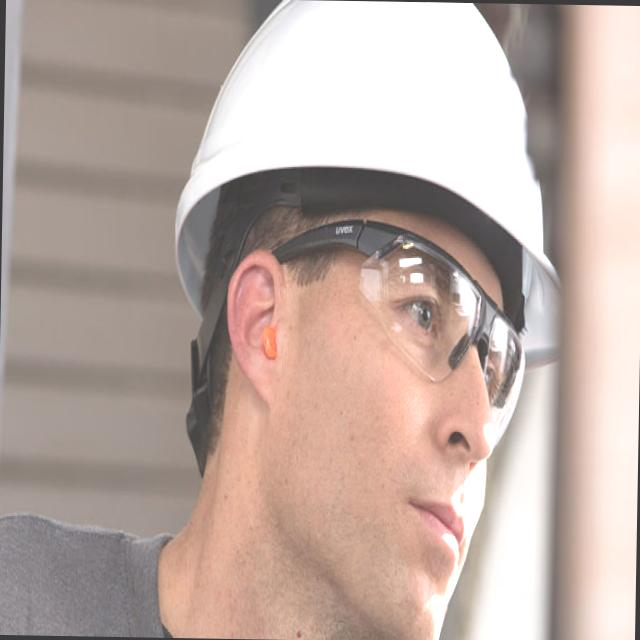goggles: (269, 220, 533, 446)
helmet: (163, 0, 564, 305)
no-vest: (0, 453, 249, 638)
